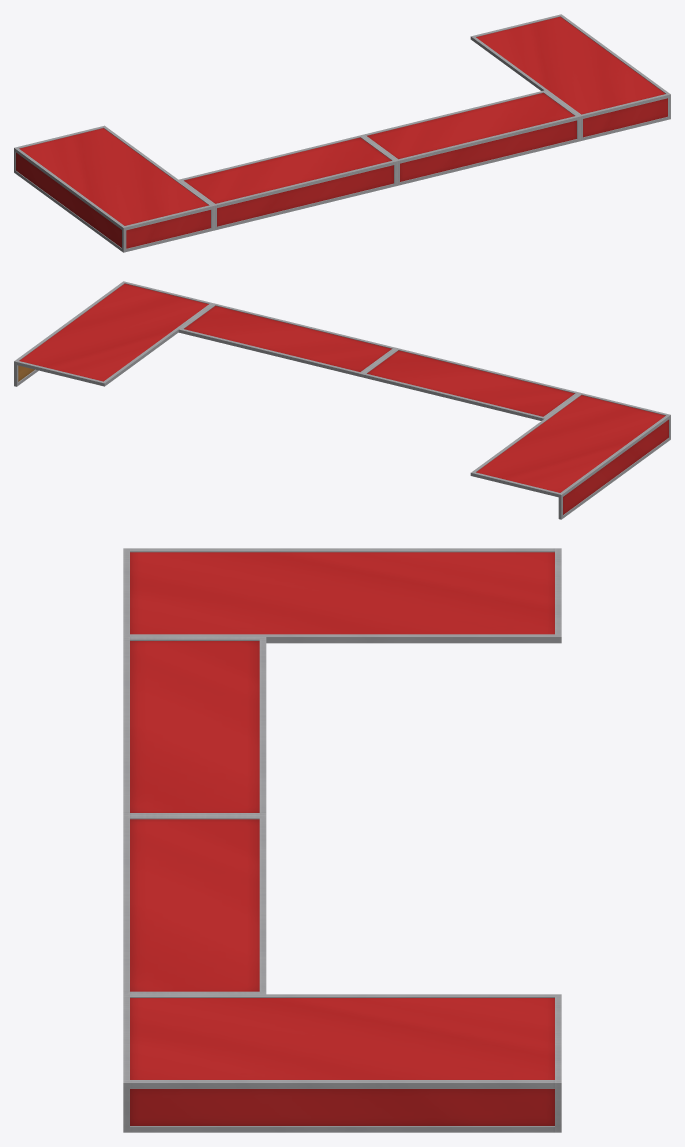
File: jsf_2P_s03_c06_t04_DX.fbx
3 renders of one model, top to bottom at view 1: azimuth 30°, elevation 25°; view 2: azimuth 150°, elevation 25°; view 3: azimuth 270°, elevation 25°, orthographic. The views are drawn at different scales.
Parts seen in each view (by area): view 1: jsf_2P_s03_c06_t04_DX; view 2: jsf_2P_s03_c06_t04_DX; view 3: jsf_2P_s03_c06_t04_DX.
Boxes of the visible parts, x1,y1,x2,y2 form: jsf_2P_s03_c06_t04_DX: (14, 14, 670, 252); jsf_2P_s03_c06_t04_DX: (14, 281, 670, 519); jsf_2P_s03_c06_t04_DX: (123, 548, 561, 1132).
Size of the model in its own units: 289 by 12.51 by 100.
